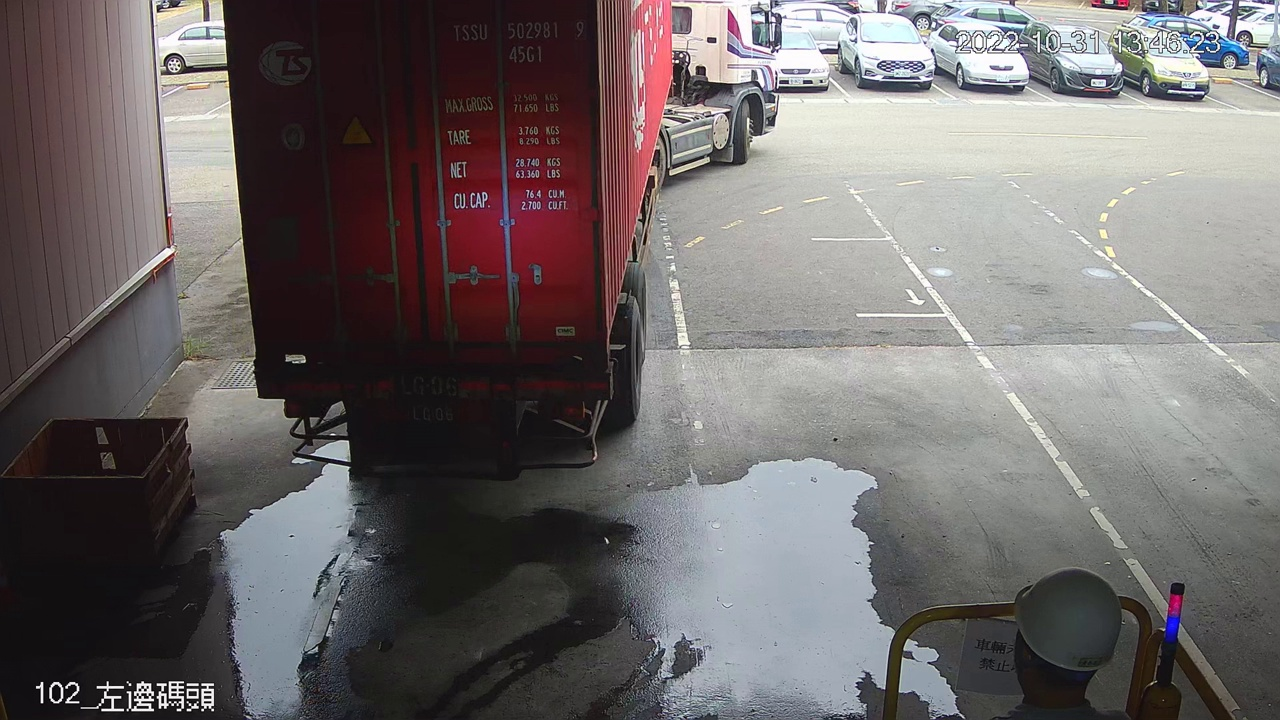container: (447, 15, 590, 70)
